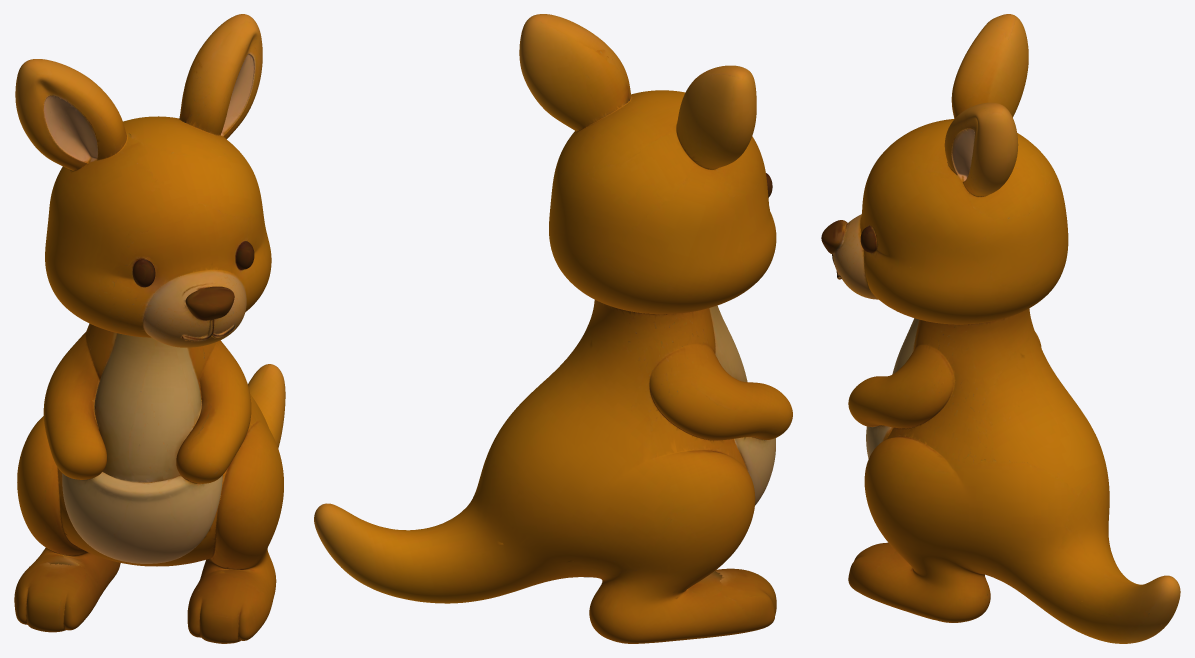
The model's file is kangaroo-con.glb.
3 views of the same model, side by side, from view 1: azimuth 30°, elevation 25°; view 2: azimuth 150°, elevation 25°; view 3: azimuth 270°, elevation 25° (orthographic). The views are drawn at different scales.
Visible parts, largest first — view 1: texture_pbr_v128; view 2: texture_pbr_v128; view 3: texture_pbr_v128.
Part boxes in pixels (<box>): texture_pbr_v128: <box>14,14,285,643</box>; texture_pbr_v128: <box>314,14,792,643</box>; texture_pbr_v128: <box>821,14,1180,643</box>.
Size of the model in its own units: 0.684 by 1.01 by 0.6353.
Materials: 1 (1 with a texture image).
